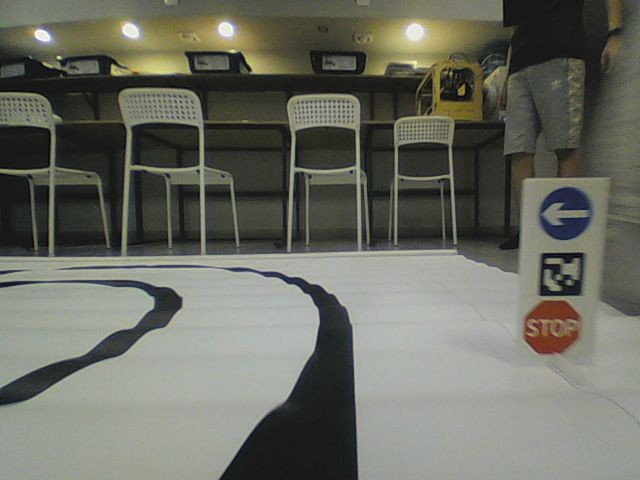Stop: (522, 299, 583, 357)
